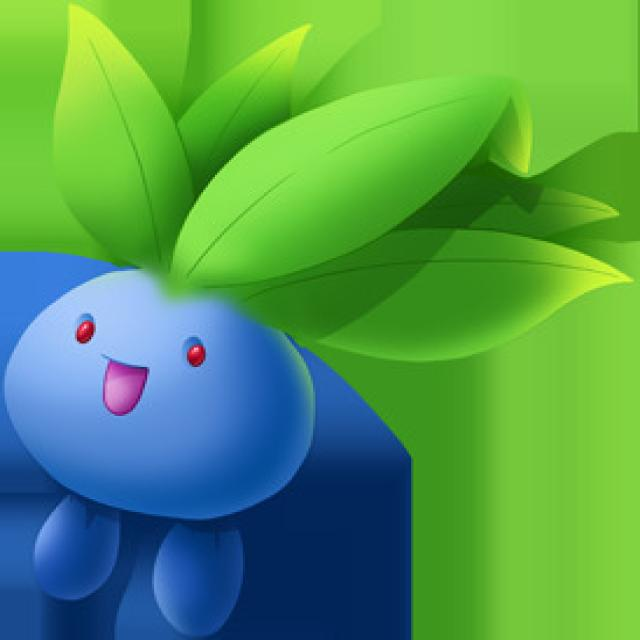Oddish: (5, 244, 318, 640)
